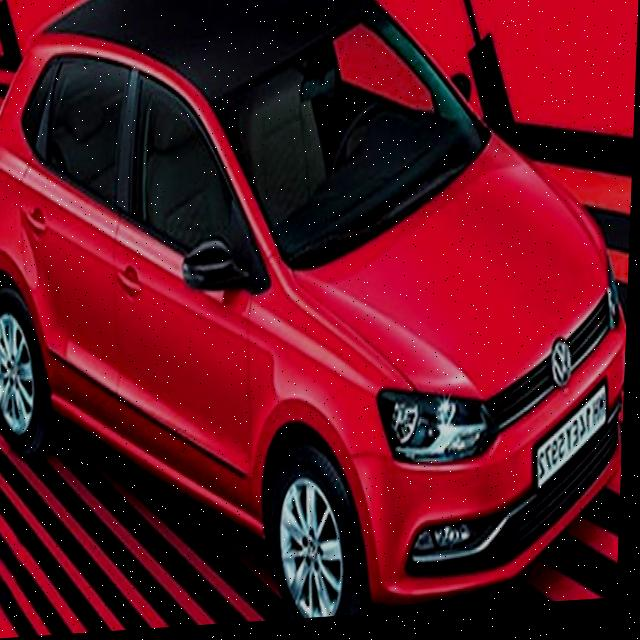plate: (536, 382, 612, 514)
